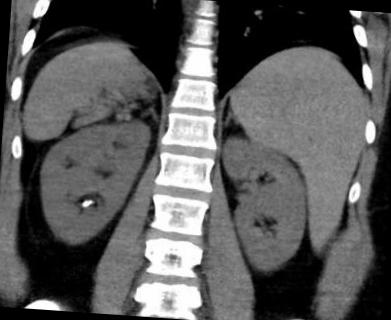Tas_Var: (80, 198, 93, 208)
